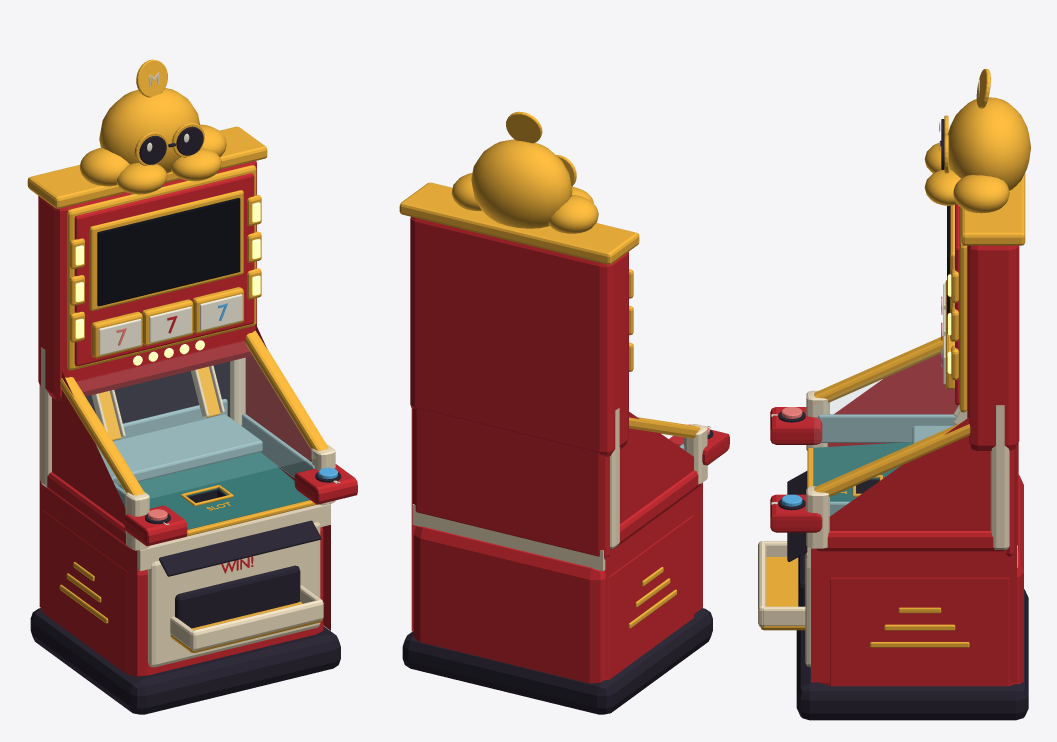
Rendered from cabinet_red.glb.
3 views of the same model, side by side, from view 1: azimuth 30°, elevation 25°; view 2: azimuth 150°, elevation 25°; view 3: azimuth 270°, elevation 25° (orthographic). The views are drawn at different scales.
Parts seen in each view (by area): view 1: Base_Plinth, Base_LowerBody, Display_BlankBlack, Header_Shell, Side_ProfilePanel, Header_RedInset, Front_CreamFascia, PusherPlate_MOVING, Front_Payout_Recess, Mascot_BlobBody, FixedField_Right, Header_TopTrim (+39 smaller); view 2: Header_Shell, Base_LowerBody, Back_Shell, Base_Plinth, Side_ProfilePanel, Mascot_BlobBody, Header_TopTrim, Side_Lower_Rail, Mascot_BlobFoot, Side_Pillar_Rear, Bay_Floor_Left, Bay_Floor_Right (+6 smaller); view 3: Base_LowerBody, Side_ProfilePanel.001, Header_Shell, Base_Plinth, Mascot_BlobBody, Side_ProfilePanel, Side_Lower_Rail.001, Field_SideFence, Header_TopTrim, Side_Upper_Rail.001, Side_Pillar_Rear.001, FixedField_Left (+17 smaller).
Boxes of the visible parts, x1=… form: Base_Plinth: x1=30, y1=608, x2=340, y2=714; Base_LowerBody: x1=42, y1=510, x2=323, y2=676; Display_BlankBlack: x1=97, y1=198, x2=240, y2=306; Header_Shell: x1=38, y1=161, x2=256, y2=400; Side_ProfilePanel: x1=39, y1=372, x2=137, y2=677; Header_RedInset: x1=74, y1=173, x2=254, y2=366; Front_CreamFascia: x1=148, y1=522, x2=320, y2=667; PusherPlate_MOVING: x1=97, y1=414, x2=262, y2=486; Front_Payout_Recess: x1=175, y1=565, x2=300, y2=628; Mascot_BlobBody: x1=99, y1=88, x2=200, y2=173; FixedField_Right: x1=195, y1=452, x2=309, y2=514; Header_TopTrim: x1=27, y1=126, x2=267, y2=208; Header_Shell: x1=410, y1=216, x2=628, y2=456; Base_LowerBody: x1=413, y1=515, x2=694, y2=683; Back_Shell: x1=412, y1=408, x2=610, y2=559; Base_Plinth: x1=402, y1=608, x2=712, y2=714; Side_ProfilePanel: x1=605, y1=412, x2=702, y2=678; Mascot_BlobBody: x1=471, y1=139, x2=572, y2=228; Header_TopTrim: x1=399, y1=182, x2=639, y2=264; Side_Lower_Rail: x1=610, y1=470, x2=701, y2=549; Mascot_BlobFoot: x1=548, y1=195, x2=598, y2=233; Side_Pillar_Rear: x1=610, y1=408, x2=619, y2=548; Bay_Floor_Left: x1=527, y1=539, x2=605, y2=570; Bay_Floor_Right: x1=412, y1=504, x2=488, y2=542; Base_LowerBody: x1=820, y1=475, x2=1023, y2=686; Side_ProfilePanel.001: x1=811, y1=417, x2=1016, y2=682; Header_Shell: x1=967, y1=245, x2=1019, y2=450; Base_Plinth: x1=796, y1=589, x2=1028, y2=720; Mascot_BlobBody: x1=948, y1=97, x2=1030, y2=190; Side_ProfilePanel: x1=834, y1=352, x2=958, y2=414; Side_Lower_Rail.001: x1=816, y1=531, x2=1005, y2=551; Field_SideFence: x1=818, y1=414, x2=956, y2=442; Header_TopTrim: x1=961, y1=173, x2=1025, y2=245; Side_Upper_Rail.001: x1=814, y1=422, x2=970, y2=496; Side_Pillar_Rear.001: x1=990, y1=405, x2=1009, y2=549; FixedField_Left: x1=813, y1=442, x2=912, y2=481.
Bounding box in the file's own units: 1.13 × 2.8 × 1.2.
